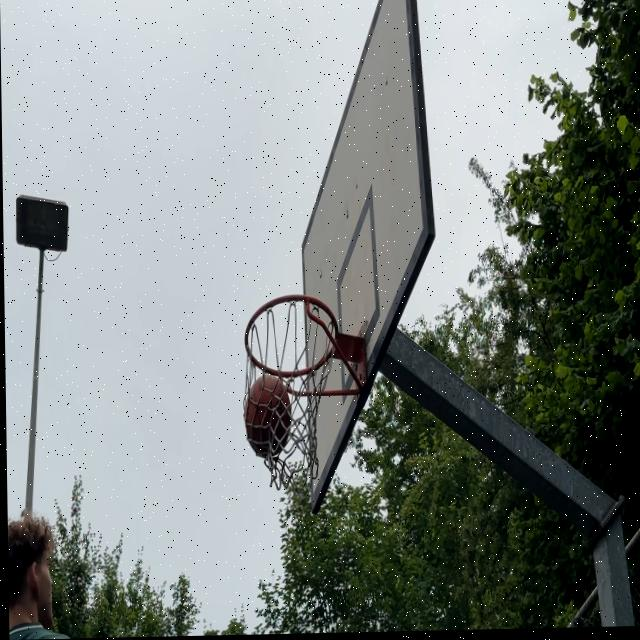Goal: (243, 375, 292, 460)
